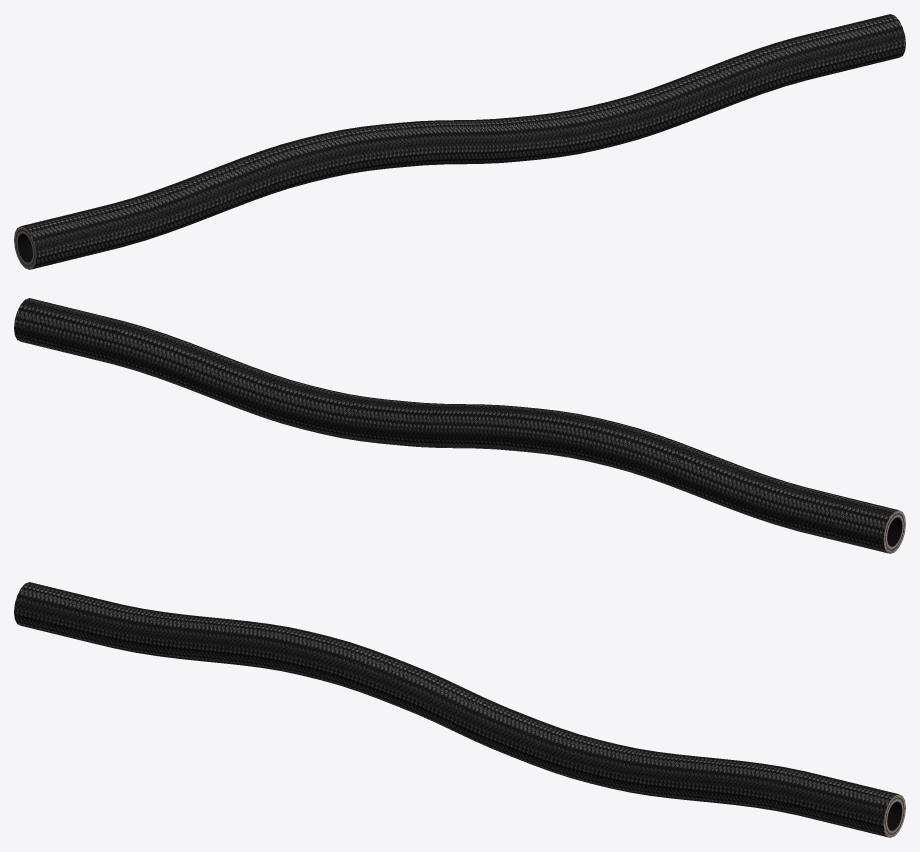
Rendered from HTPB_V1.glb.
The picture shows the model from 3 angles, top to bottom: view 1: azimuth 30°, elevation 25°; view 2: azimuth 150°, elevation 25°; view 3: azimuth 330°, elevation 25°; orthographic projection.
Visible parts, largest first — view 1: Polymer Braid.001; view 2: Polymer Braid.001; view 3: Polymer Braid.001.
Boxes of the visible parts, x1,y1,x2,y2 form: Polymer Braid.001: (14,14,905,269); Polymer Braid.001: (14,298,905,553); Polymer Braid.001: (14,582,905,837).
Bounding box in the file's own units: 0.3074 × 0.0264 × 0.0137.
Materials: 2 (2 with a texture image).
